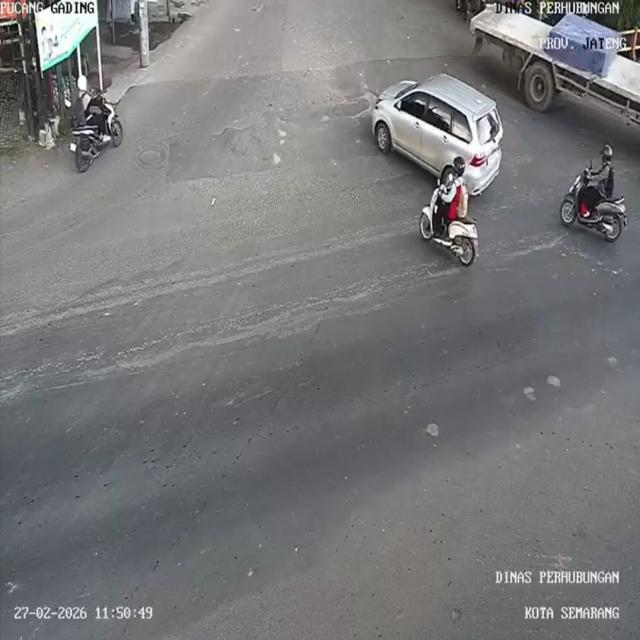motorcycle: (558, 165, 632, 248), (417, 187, 485, 268), (72, 96, 125, 172)
person: (445, 159, 475, 228), (75, 75, 107, 132), (591, 140, 615, 204)
rider_region: (558, 141, 629, 247), (420, 162, 478, 267), (68, 74, 125, 172)
